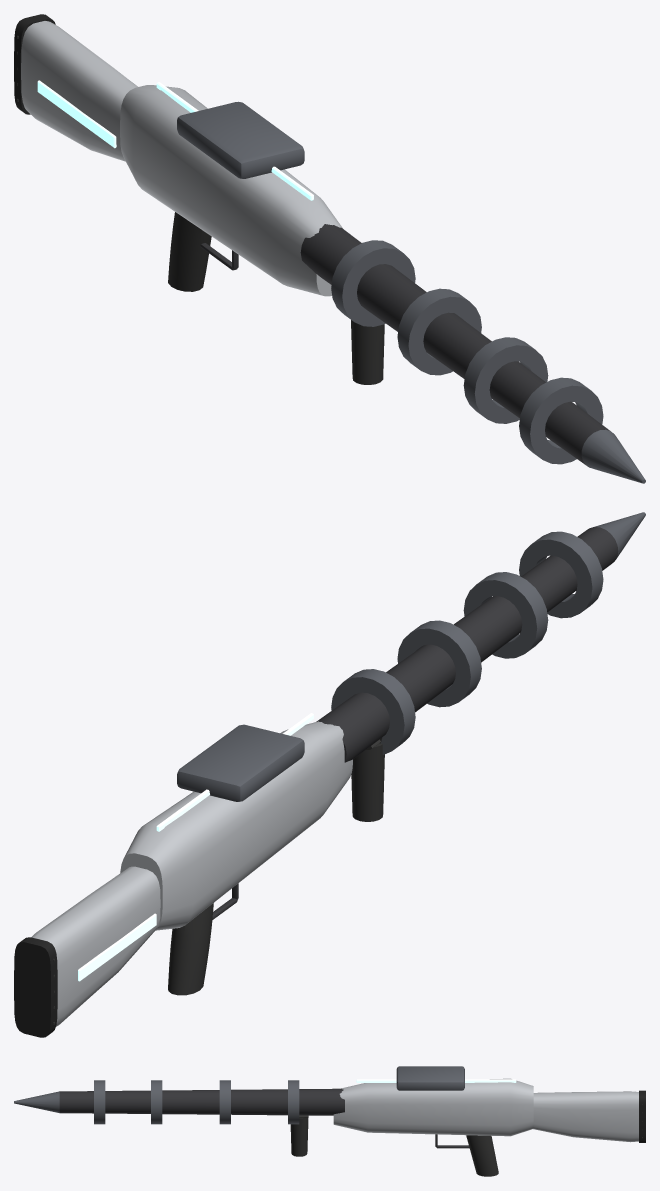
File: dragoon.glb
3 renders of one model, top to bottom at view 1: azimuth 30°, elevation 25°; view 2: azimuth 150°, elevation 25°; view 3: azimuth 270°, elevation 25°, orthographic. The views are drawn at different scales.
Parts seen in each view (by area): view 1: Body; view 2: Body; view 3: Body.
Boxes of the visible parts, box(x1,y1,x2,y2) form: Body: box(14, 14, 645, 483); Body: box(14, 512, 645, 1037); Body: box(14, 1066, 645, 1176).
Bounding box in the file's own units: 0.0768 × 0.1929 × 1.11.
